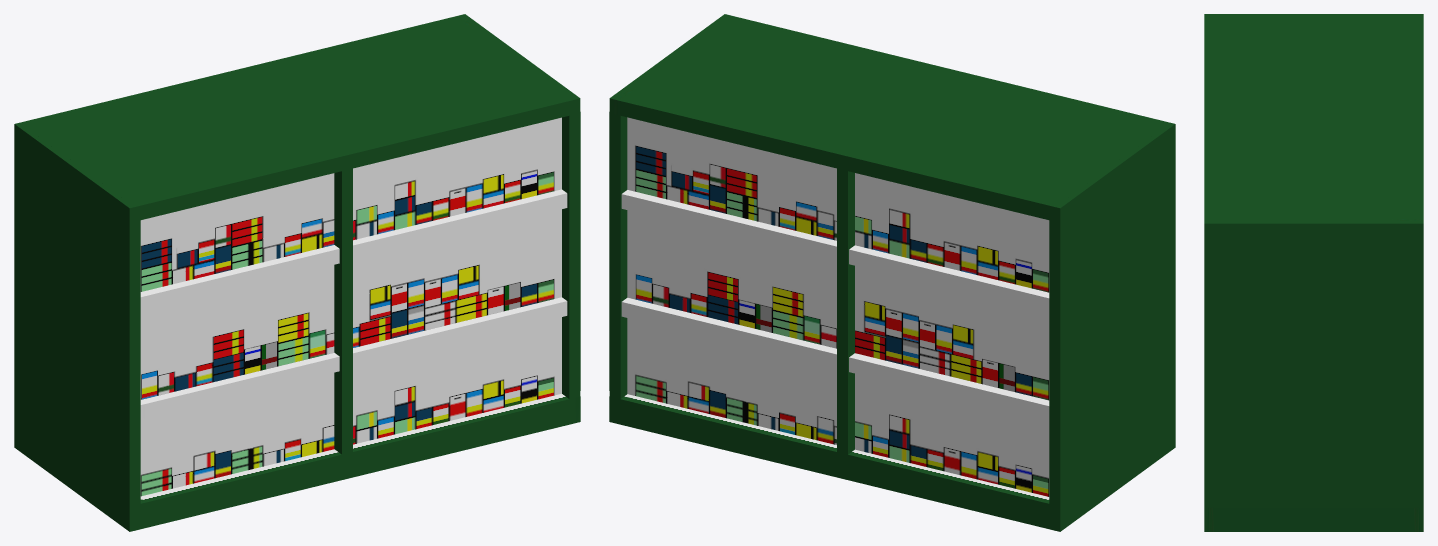
Rendered from Pra_Rem_01.FBX.
The picture shows the model from 3 angles, left to right: view 1: azimuth 30°, elevation 25°; view 2: azimuth 150°, elevation 25°; view 3: azimuth 270°, elevation 25°; orthographic projection. The views are drawn at different scales.
Visible parts, largest first — view 1: Pra_01, Pra_Rem_01; view 2: Pra_01, Pra_Rem_01; view 3: Pra_01.
Boxes of the visible parts, x1,y1,x2,y2 form: Pra_01: (14, 14, 580, 531); Pra_Rem_01: (140, 117, 561, 496); Pra_01: (609, 14, 1175, 531); Pra_Rem_01: (627, 117, 1049, 496); Pra_01: (1204, 14, 1423, 531).
Size of the model in its own units: 175 by 120 by 77.3.
Materials: 2 (2 with a texture image).
